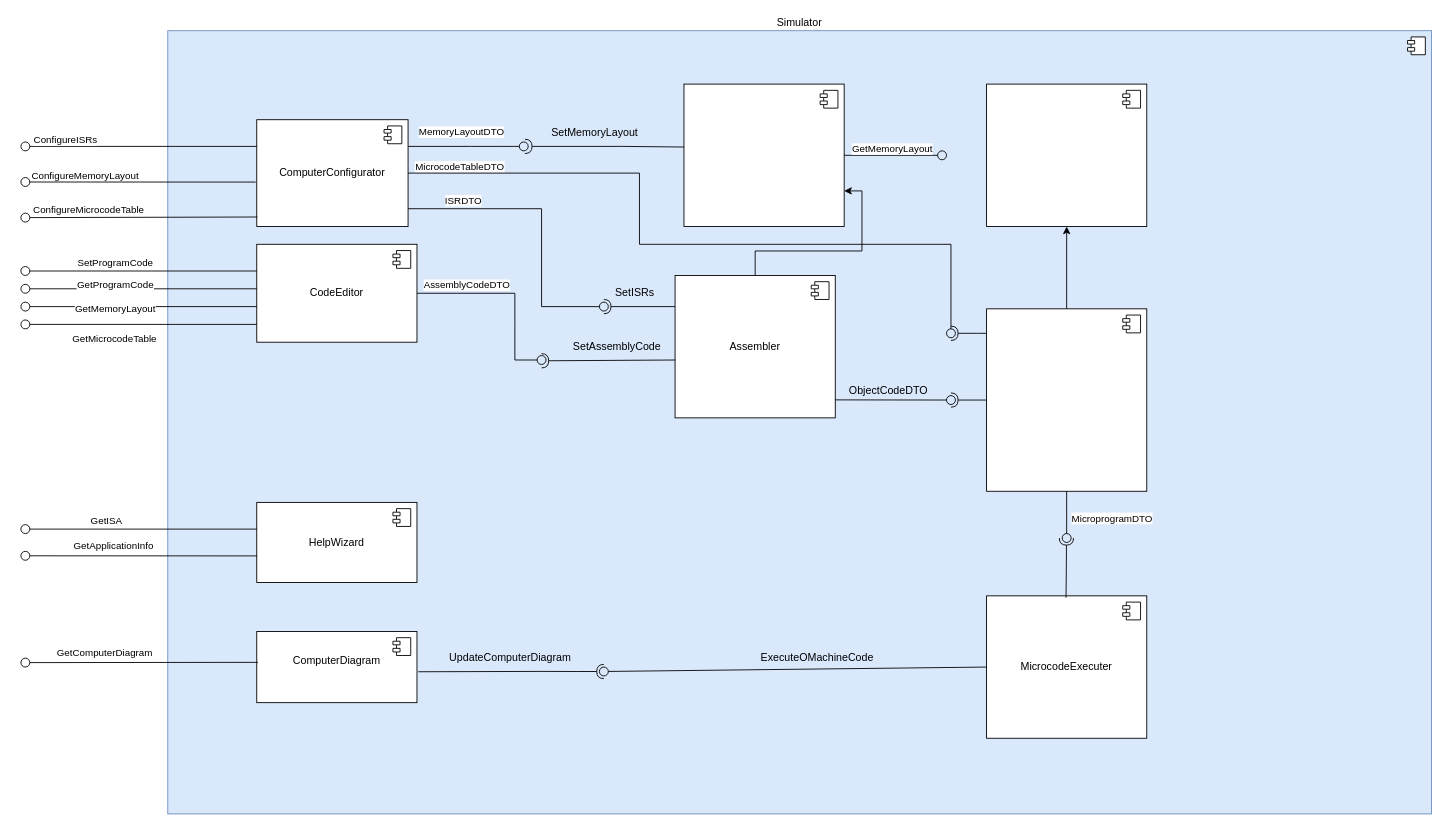
Some shapes in this 1447 by 837 pixel diagram are drawn without their labels. The shapes that lost their labels are listed below. From the top down, each one's centre as x and y in pixels, then its label:
At [763,155]: "MainMemory".
At [1066,155]: "MicroprogramLookUpTable".
At [1066,399]: "InstructionTranslator".
